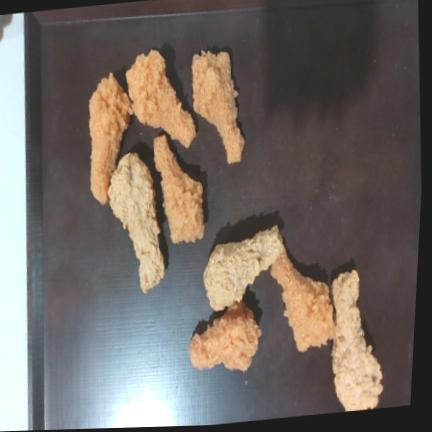chicken: (108, 153, 163, 292), (331, 270, 382, 410), (126, 49, 195, 147), (203, 226, 283, 310), (271, 252, 334, 351), (191, 50, 244, 162), (88, 72, 132, 204), (153, 136, 203, 243), (188, 301, 260, 371)
